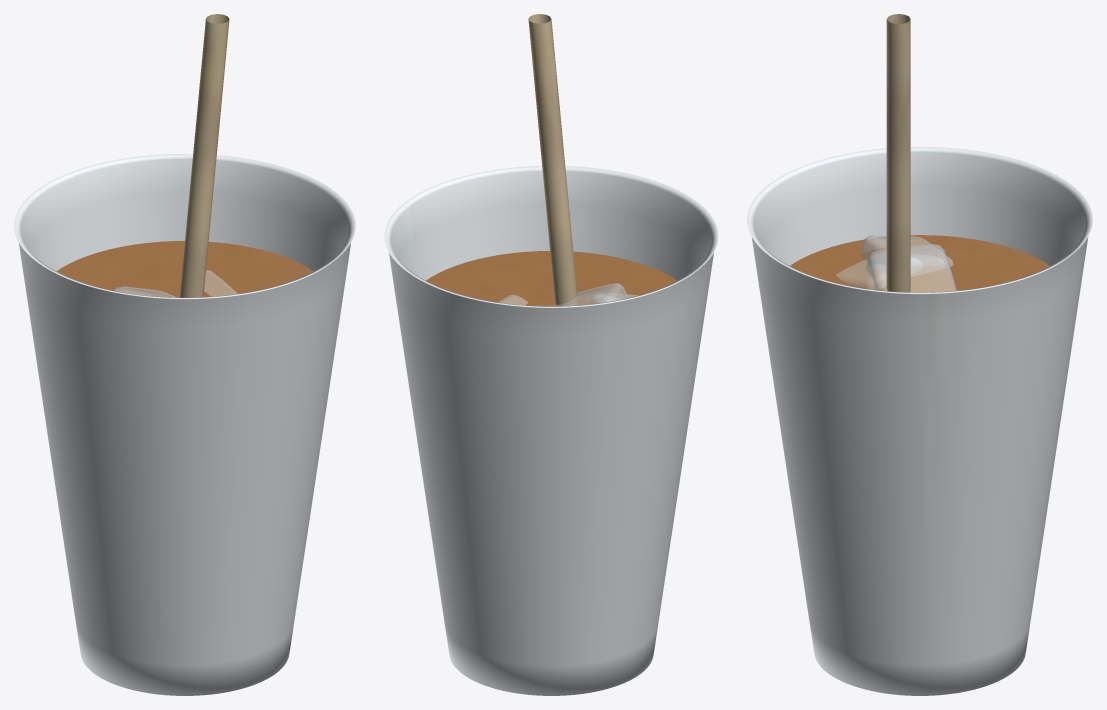
The model's file is iced-latte.glb.
The picture shows the model from 3 angles, left to right: view 1: azimuth 30°, elevation 25°; view 2: azimuth 150°, elevation 25°; view 3: azimuth 270°, elevation 25°; orthographic projection. The views are drawn at different scales.
Visible parts, largest first — view 1: clear, gloss, satin, ice; view 2: clear, gloss, satin, ice; view 3: clear, gloss, satin, ice.
Boxes of the visible parts, x1,y1,x2,y2 form: clear: [14, 153, 355, 695]; gloss: [56, 241, 313, 297]; satin: [179, 14, 229, 297]; ice: [113, 270, 237, 297]; clear: [384, 166, 718, 695]; gloss: [426, 251, 676, 306]; satin: [528, 14, 578, 306]; ice: [498, 283, 637, 305]; clear: [747, 147, 1092, 695]; gloss: [790, 235, 1049, 292]; satin: [886, 14, 910, 292]; ice: [836, 235, 956, 292].
Size of the model in its own units: 0.098 by 0.201 by 0.098.
4 materials, 4 textured.
